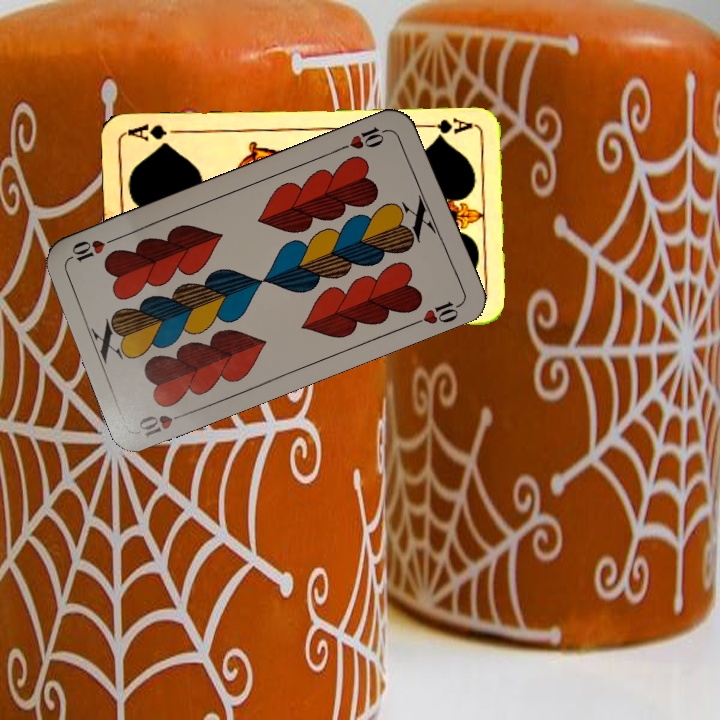GA: (416, 114, 475, 136)
H10: (134, 407, 193, 440), (336, 123, 393, 153)
